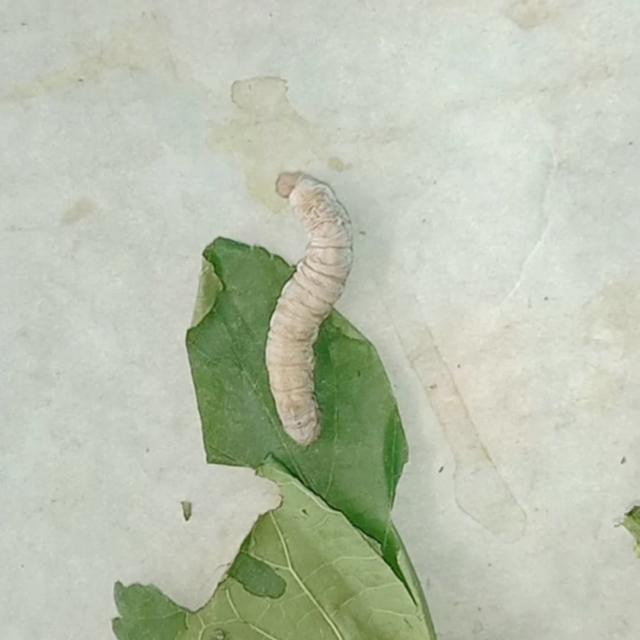Grasserie: (221, 147, 431, 470)
